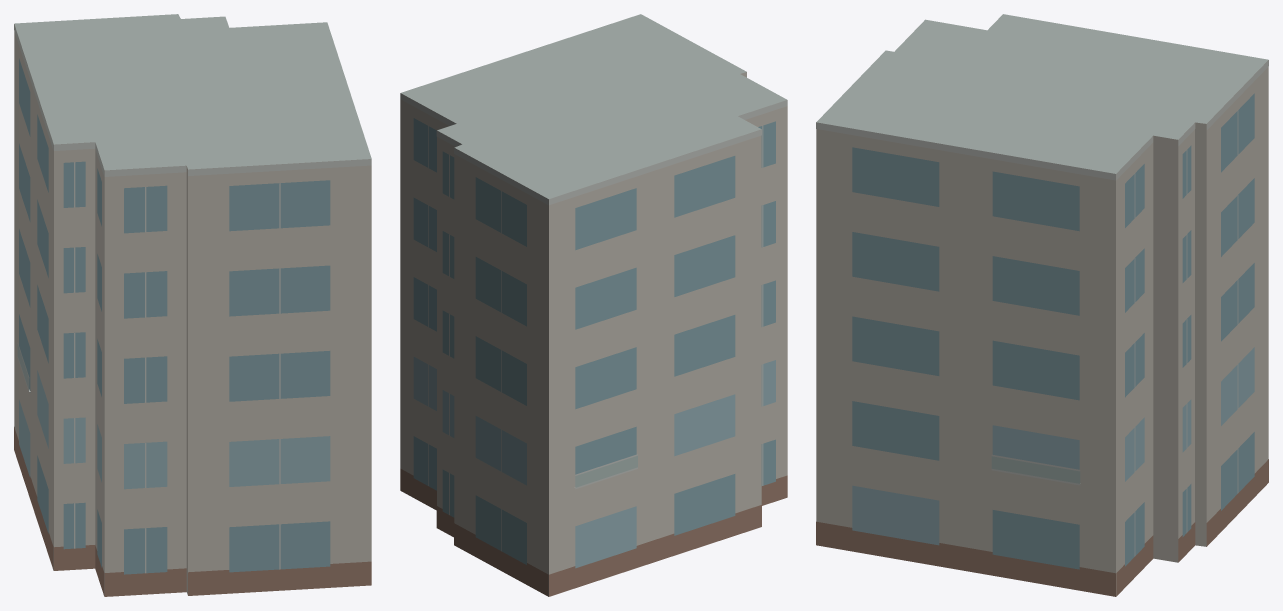
File: survey-upis-32534948.glb
The picture shows the model from 3 angles, left to right: view 1: azimuth 30°, elevation 25°; view 2: azimuth 150°, elevation 25°; view 3: azimuth 270°, elevation 25°; orthographic projection. The views are drawn at different scales.
Visible parts, largest first — view 1: survey-upis-32534948.tmp; view 2: survey-upis-32534948.tmp; view 3: survey-upis-32534948.tmp.
Boxes of the visible parts, x1,y1,x2,y2 form: survey-upis-32534948.tmp: [14, 14, 371, 596]; survey-upis-32534948.tmp: [400, 14, 787, 596]; survey-upis-32534948.tmp: [816, 14, 1268, 596].
Size of the model in its own units: 12.74 by 15.7 by 15.24.
